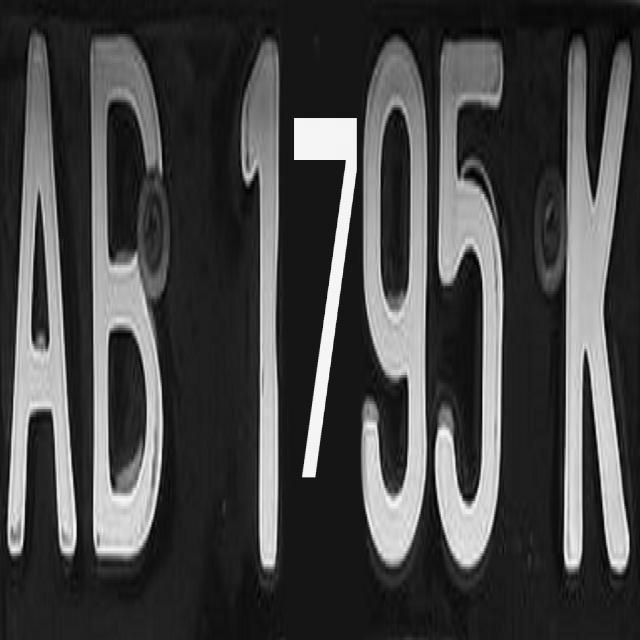1: (233, 21, 297, 580)
5: (433, 33, 503, 569)
7: (298, 101, 360, 483)
9: (362, 16, 426, 570)
A: (1, 22, 90, 575)
B: (84, 22, 188, 574)
K: (543, 25, 640, 572)
